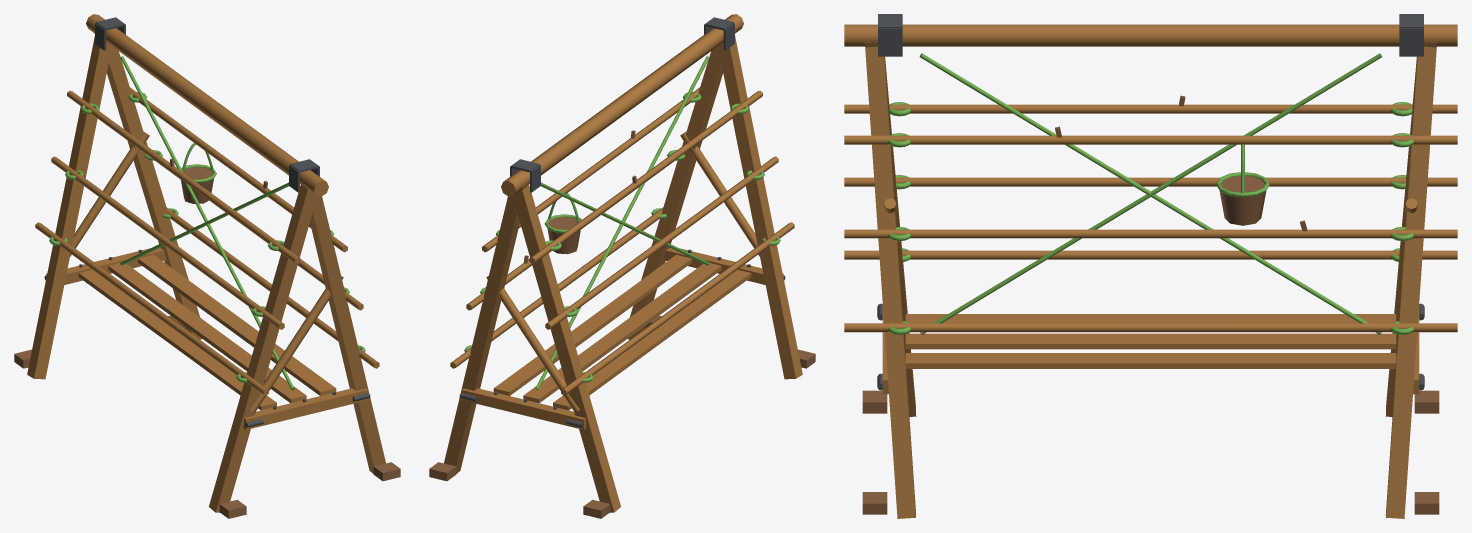
The model's file is drying-rack.glb.
3 renders of one model, left to right at view 1: azimuth 30°, elevation 25°; view 2: azimuth 150°, elevation 25°; view 3: azimuth 270°, elevation 25°, orthographic. The views are drawn at different scales.
Visible parts, largest first — view 1: Mesh_Leg2_L, Mesh_Leg2_R, Mesh_Leg1_R, Mesh_TopRail, Mesh_Leg1_L, Mesh_ShelfPlank3, Mesh_ShelfPlank2, Mesh_ShelfPlank1, Mesh_RungB2, Mesh_RungB3, Mesh_RungB1, Mesh_CrossBrace_R (+9 smaller); view 2: Mesh_Leg2_R, Mesh_Leg2_L, Mesh_Leg1_L, Mesh_TopRail, Mesh_Leg1_R, Mesh_ShelfPlank3, Mesh_ShelfPlank2, Mesh_ShelfPlank1, Mesh_RungB2, Mesh_RungB3, Mesh_RungB1, Mesh_CrossBrace_L (+9 smaller); view 3: Mesh_TopRail, Mesh_Leg1_L, Mesh_Leg1_R, Mesh_ShelfPlank2, Mesh_ShelfPlank3, Mesh_RungF1, Mesh_RungF2, Mesh_RungF3, Mesh_RungB3, Mesh_RungB1, Mesh_RungB2, Mesh_ShelfPlank1 (+7 smaller).
Boxes of the visible parts, bbox=[...] form: Mesh_Leg2_L: bbox=[27, 36, 111, 379]; Mesh_Leg2_R: bbox=[209, 184, 312, 512]; Mesh_Leg1_R: bbox=[300, 181, 385, 473]; Mesh_TopRail: bbox=[86, 14, 328, 196]; Mesh_Leg1_L: bbox=[94, 31, 201, 339]; Mesh_ShelfPlank3: bbox=[138, 254, 336, 395]; Mesh_ShelfPlank2: bbox=[108, 263, 306, 403]; Mesh_ShelfPlank1: bbox=[78, 269, 276, 410]; Mesh_RungB2: bbox=[51, 156, 284, 329]; Mesh_RungB3: bbox=[35, 222, 268, 395]; Mesh_RungB1: bbox=[67, 90, 300, 263]; Mesh_CrossBrace_R: bbox=[243, 388, 368, 429]; Mesh_Leg2_R: bbox=[719, 36, 802, 379]; Mesh_Leg2_L: bbox=[513, 184, 620, 512]; Mesh_Leg1_L: bbox=[444, 181, 529, 473]; Mesh_TopRail: bbox=[501, 14, 743, 196]; Mesh_Leg1_R: bbox=[628, 31, 735, 339]; Mesh_ShelfPlank3: bbox=[493, 254, 691, 395]; Mesh_ShelfPlank2: bbox=[523, 263, 721, 403]; Mesh_ShelfPlank1: bbox=[553, 269, 751, 410]; Mesh_RungB2: bbox=[545, 156, 778, 329]; Mesh_RungB3: bbox=[561, 222, 794, 395]; Mesh_RungB1: bbox=[529, 90, 762, 263]; Mesh_CrossBrace_L: bbox=[461, 388, 586, 429]; Mesh_TopRail: bbox=[844, 24, 1457, 46]; Mesh_Leg1_L: bbox=[1385, 46, 1436, 518]; Mesh_Leg1_R: bbox=[865, 46, 916, 518]; Mesh_ShelfPlank2: bbox=[905, 333, 1396, 349]; Mesh_ShelfPlank3: bbox=[905, 353, 1396, 368]; Mesh_RungF1: bbox=[844, 135, 1457, 144]; Mesh_RungF2: bbox=[844, 229, 1457, 238]; Mesh_RungF3: bbox=[844, 323, 1457, 332]; Mesh_RungB3: bbox=[844, 250, 1457, 259]; Mesh_RungB1: bbox=[844, 104, 1457, 113]; Mesh_RungB2: bbox=[844, 177, 1457, 186]; Mesh_ShelfPlank1: bbox=[905, 314, 1396, 323].
Size of the model in its own units: 0.8721 by 1.61 by 2.
1 material, 1 textured.
